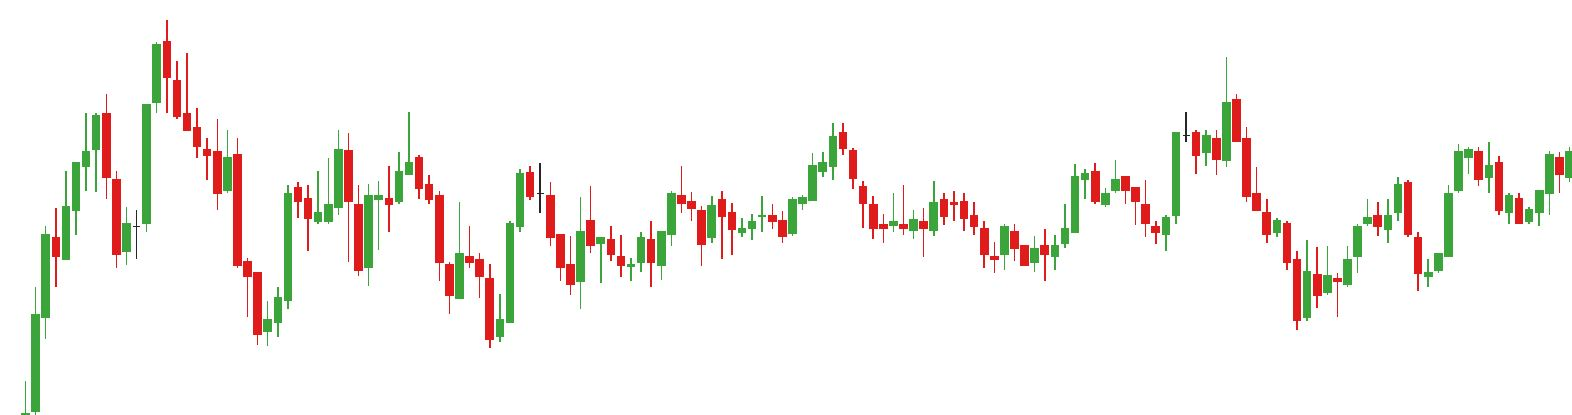buy: (110, 194, 295, 344)
sell: (677, 122, 860, 220), (100, 21, 184, 180), (455, 162, 556, 269), (1180, 55, 1242, 164)
